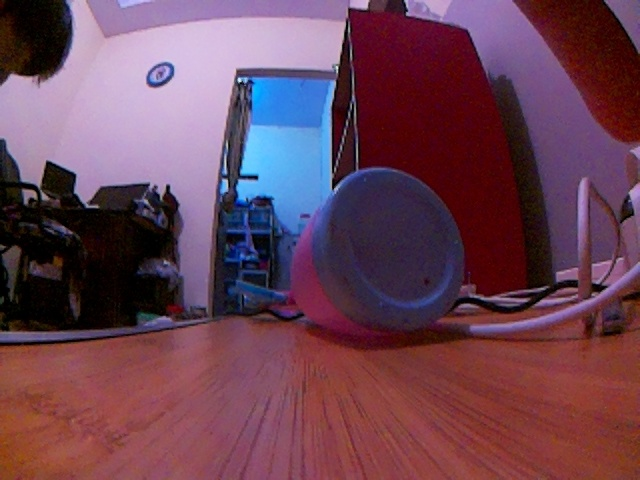korban: (277, 164, 489, 365)
